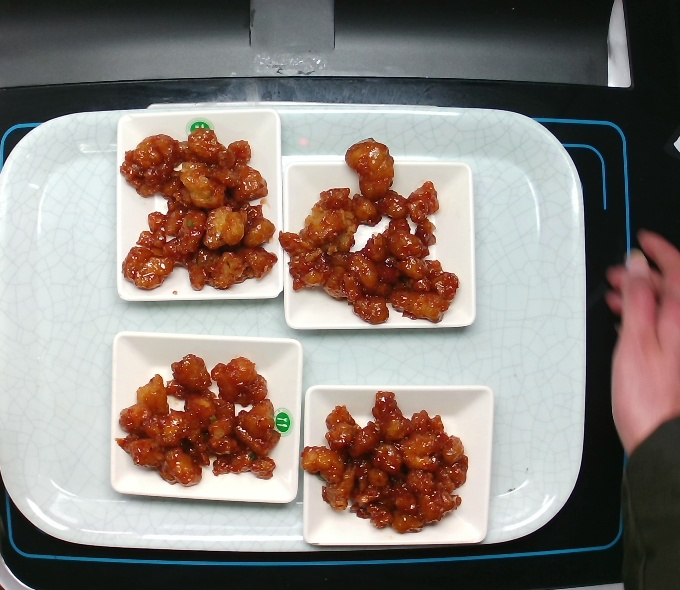wcq-TangCuPaiGu: (280, 136, 465, 336), (116, 112, 282, 304), (295, 390, 477, 539), (108, 343, 280, 499)
